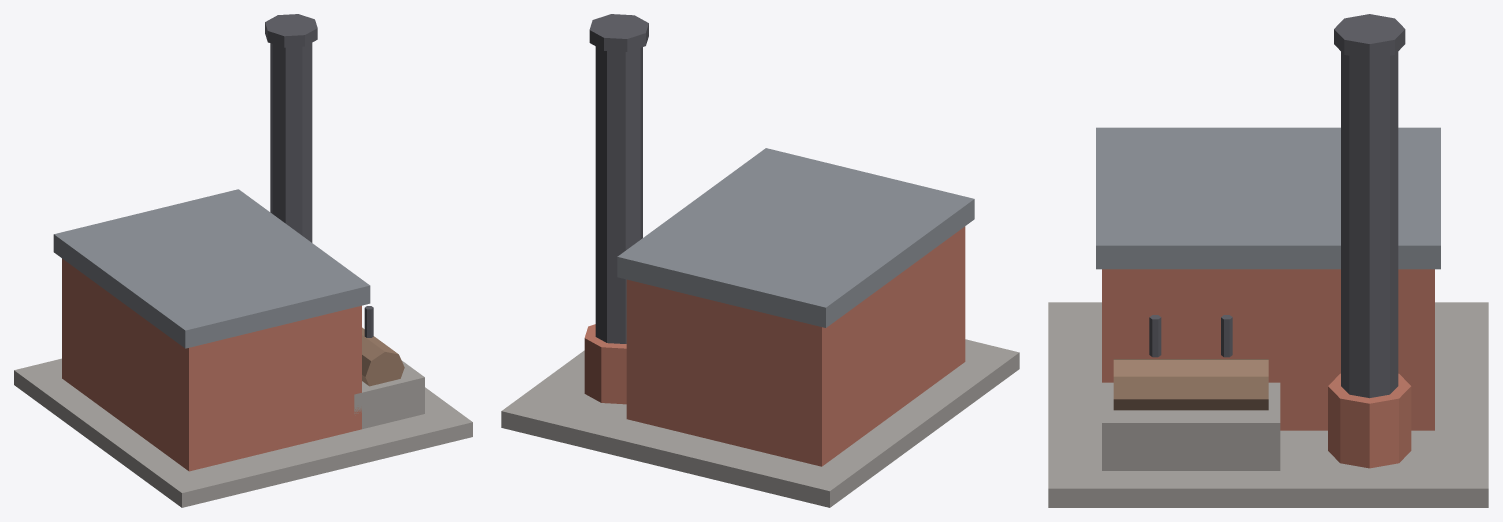
File: utility_powerplant.glb
3 views of the same model, side by side, from view 1: azimuth 30°, elevation 25°; view 2: azimuth 150°, elevation 25°; view 3: azimuth 270°, elevation 25° (orthographic). The views are drawn at different scales.
Visible parts, largest first — view 1: Plant_Turbine_Hall, Plant_Gable_Roof, Plant_Base, Plant_Chimney_Shaft, Plant_Transformer_Beds, Plant_Dynamo_2, Plant_Chimney_Cap; view 2: Plant_Turbine_Hall, Plant_Gable_Roof, Plant_Base, Plant_Chimney_Shaft, Plant_Chimney_Base, Plant_Chimney_Cap; view 3: Plant_Gable_Roof, Plant_Base, Plant_Turbine_Hall, Plant_Chimney_Shaft, Plant_Transformer_Beds, Plant_Chimney_Base, Plant_Dynamo_1, Plant_Dynamo_2, Plant_Chimney_Cap, Plant_Bushing_2, Plant_Bushing_1.
Part boxes in pixels (box(x1,y1,x2,y2)): Plant_Turbine_Hall: box(62, 258, 361, 471); Plant_Gable_Roof: box(53, 189, 370, 348); Plant_Base: box(14, 358, 472, 507); Plant_Chimney_Shaft: box(270, 43, 312, 242); Plant_Transformer_Beds: box(354, 360, 424, 429); Plant_Dynamo_2: box(362, 330, 404, 386); Plant_Chimney_Cap: box(265, 14, 317, 47); Plant_Turbine_Hall: box(626, 226, 965, 466); Plant_Gable_Roof: box(617, 148, 974, 327); Plant_Base: box(501, 339, 1019, 507); Plant_Chimney_Shaft: box(595, 46, 642, 343); Plant_Chimney_Base: box(584, 324, 626, 404); Plant_Chimney_Cap: box(589, 14, 648, 51); Plant_Gable_Roof: box(1096, 127, 1440, 269); Plant_Base: box(1048, 302, 1488, 507); Plant_Turbine_Hall: box(1102, 269, 1434, 430); Plant_Chimney_Shaft: box(1341, 52, 1398, 398); Plant_Transformer_Beds: box(1102, 382, 1280, 470); Plant_Chimney_Base: box(1328, 373, 1411, 468); Plant_Dynamo_1: box(1185, 359, 1268, 410); Plant_Dynamo_2: box(1113, 359, 1196, 410); Plant_Chimney_Cap: box(1334, 14, 1405, 59); Plant_Bushing_2: box(1149, 315, 1161, 357); Plant_Bushing_1: box(1221, 315, 1232, 357).
Bounding box in the file's own units: 3.7 × 4.09 × 3.7.
